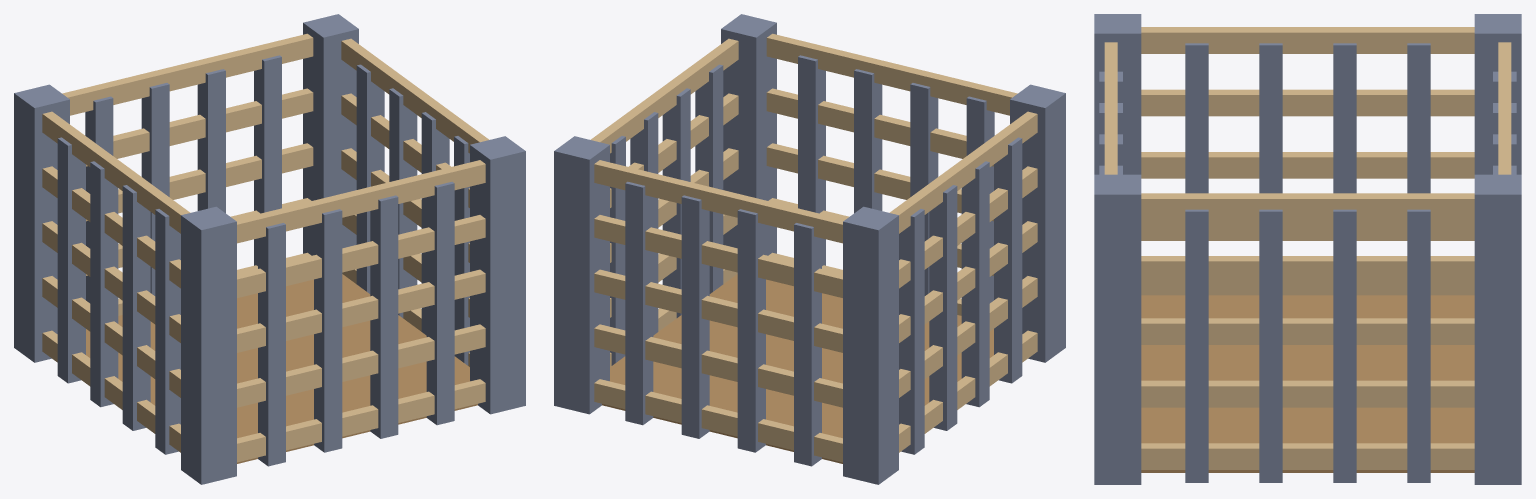
3 renders of one model, left to right at view 1: azimuth 30°, elevation 25°; view 2: azimuth 150°, elevation 25°; view 3: azimuth 270°, elevation 25°, orthographic. The views are drawn at different scales.
Visible parts, largest first — view 1: box; view 2: box; view 3: box.
Part boxes in pixels (x1,y1,x2,y2): box: [14, 14, 525, 484]; box: [554, 14, 1065, 484]; box: [1094, 14, 1521, 484].
Bounding box in the file's own units: 1 × 0.75 × 1.
